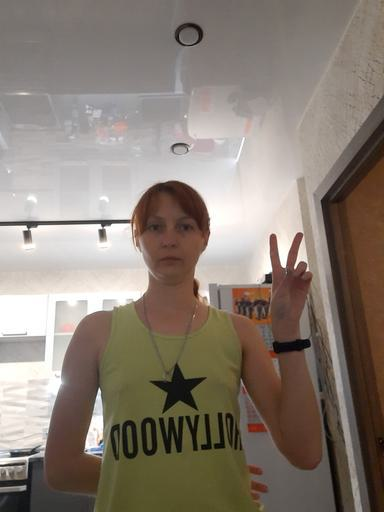peace: (265, 231, 314, 327)
